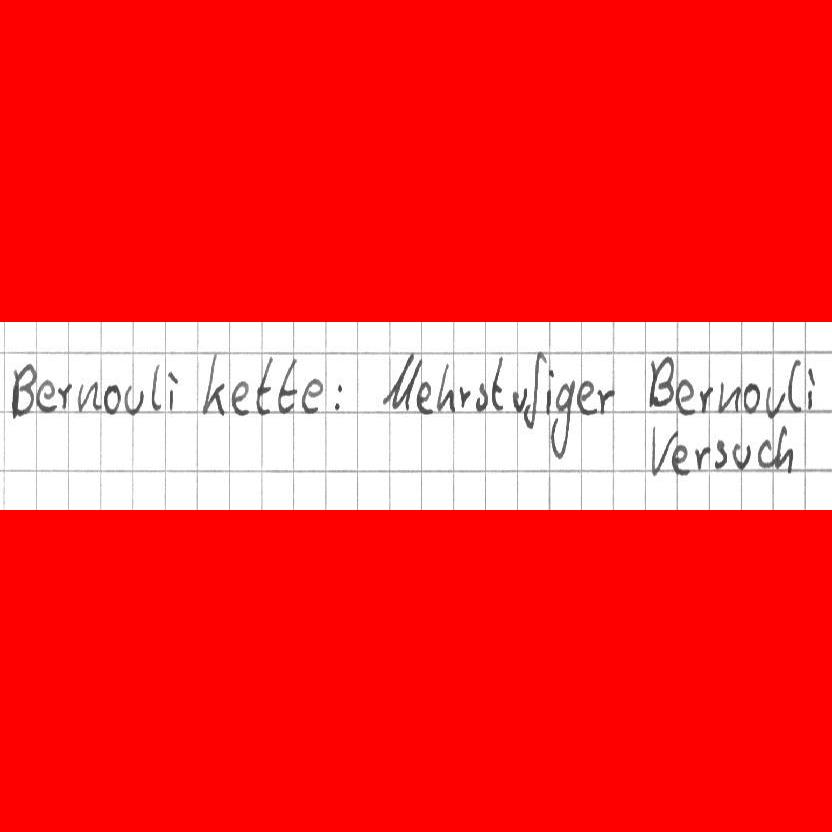Char: (382, 351, 419, 411), (520, 351, 546, 430), (549, 381, 574, 459), (201, 351, 227, 419), (646, 355, 675, 411), (649, 424, 679, 477), (9, 362, 35, 418), (277, 357, 299, 415), (255, 355, 275, 417), (774, 423, 794, 475), (435, 362, 454, 415), (784, 356, 800, 416), (668, 442, 693, 479), (300, 376, 323, 414), (491, 354, 505, 411), (78, 379, 100, 414), (719, 379, 741, 414), (577, 380, 597, 416), (231, 379, 251, 415), (415, 379, 434, 415), (149, 362, 162, 414), (676, 379, 694, 415), (510, 384, 528, 420), (123, 385, 142, 419), (742, 382, 761, 414), (732, 440, 752, 469), (36, 381, 55, 411), (806, 364, 818, 411), (167, 369, 180, 411), (765, 386, 782, 418), (543, 367, 554, 416), (103, 382, 119, 415), (597, 382, 614, 413), (757, 439, 774, 469), (58, 381, 74, 412), (697, 383, 714, 412), (693, 443, 710, 472), (473, 381, 488, 412), (713, 439, 727, 470), (458, 383, 472, 411), (333, 380, 345, 412)
